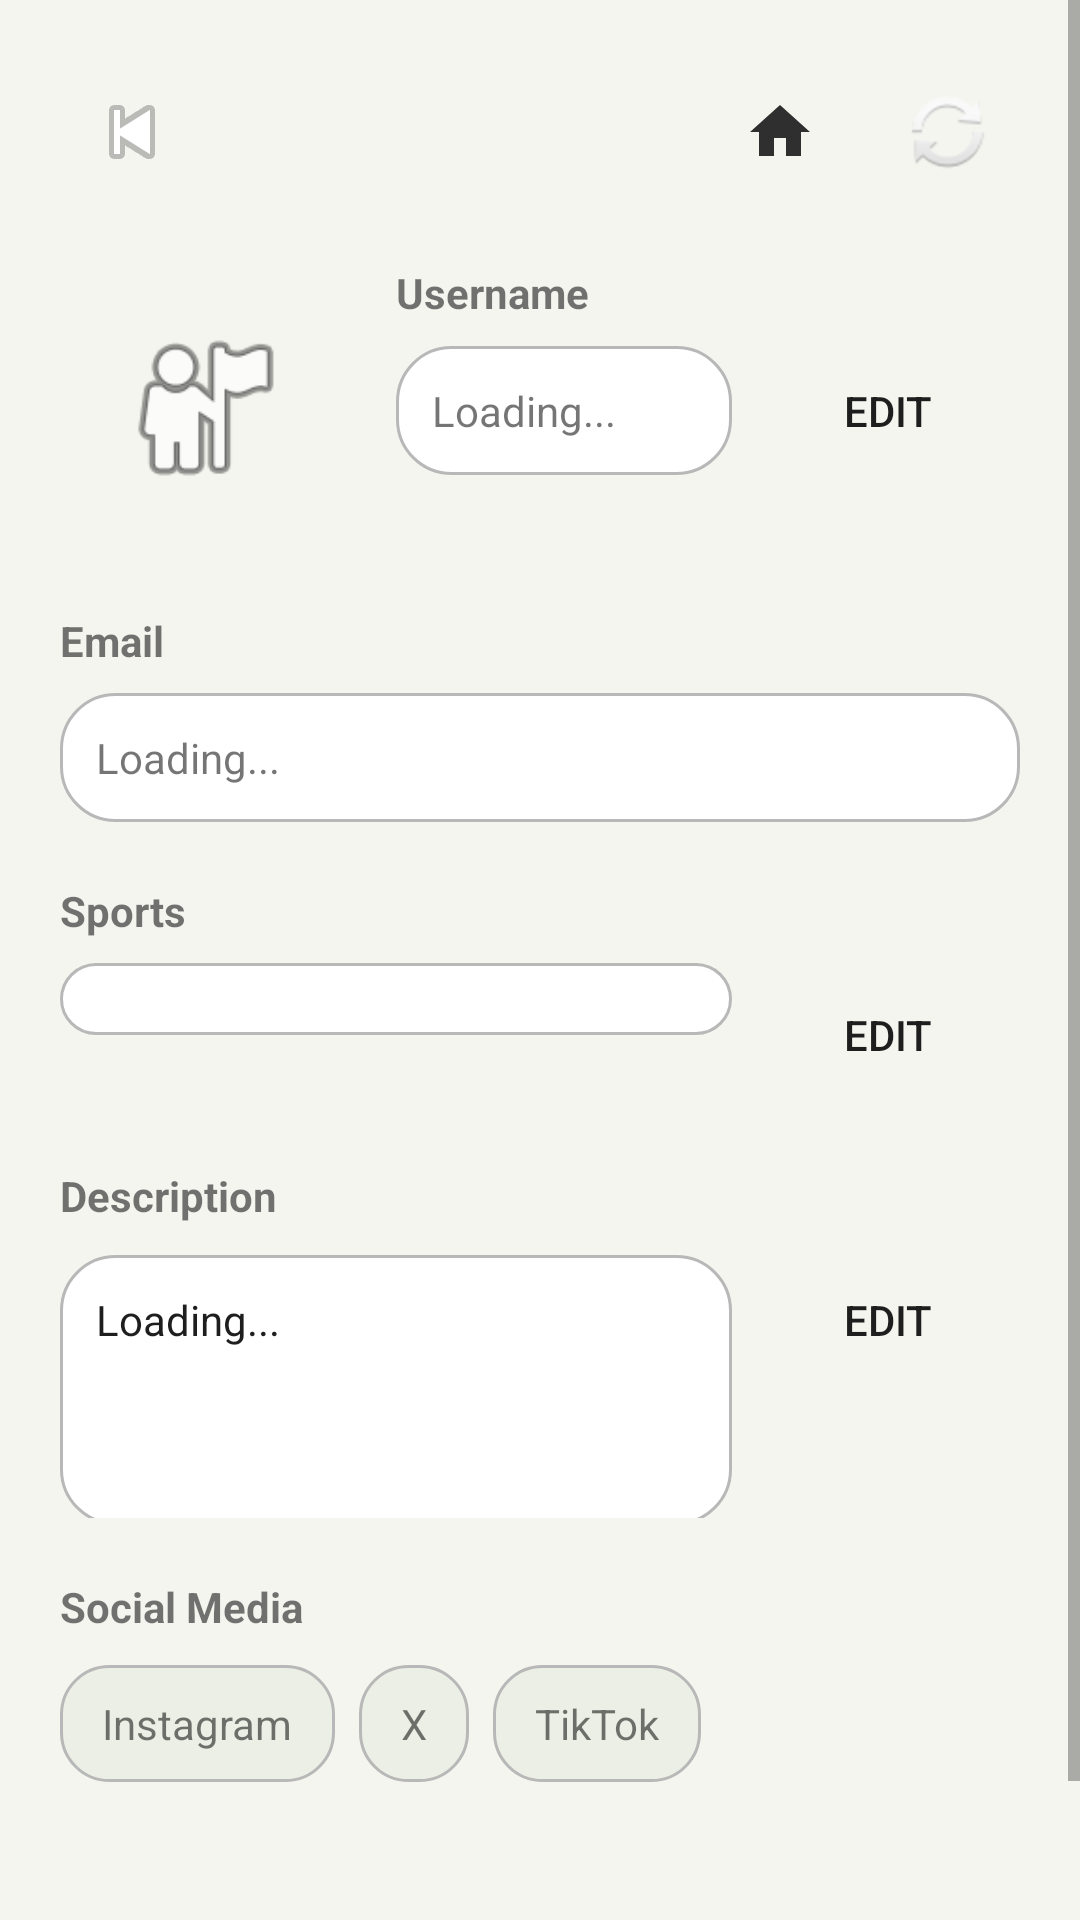

Where icons sit on this 1080x1920 app screen, as (x1, y1, x2, y2):
Home: (750, 105, 810, 156)
Refresh: (912, 105, 981, 167)
